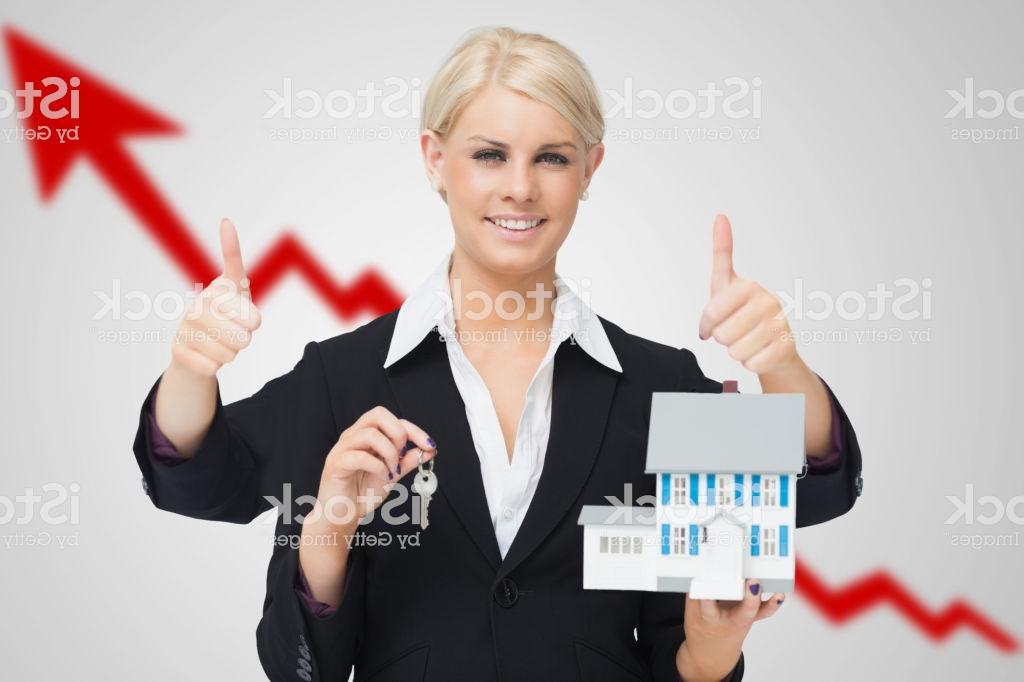thumbsup: (694, 209, 797, 377), (168, 214, 267, 381)
